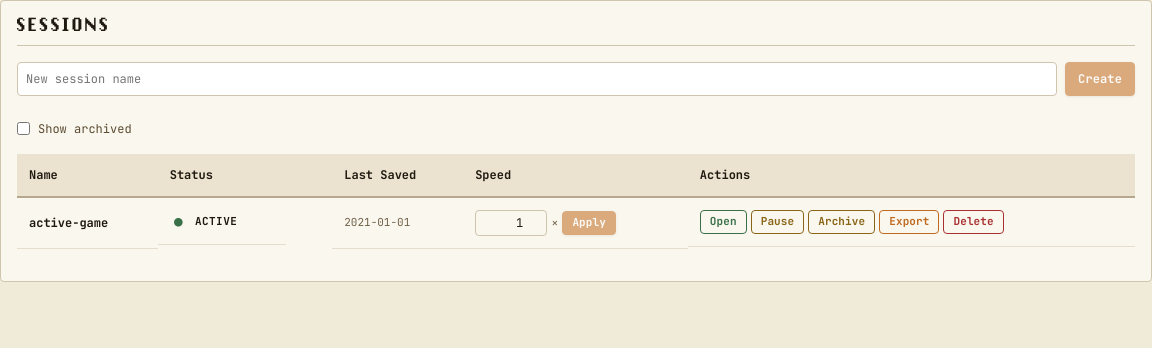
Test: SessionsPanel › hides archived sessions by default and reveals them when show archived is checked
Expected: the text "active-game" is shown, [17,196,158,248]
Expected: the text "archived-game" is not shown
Click the checkbox labelled "Show archived": (24,128) [17,122,30,135]
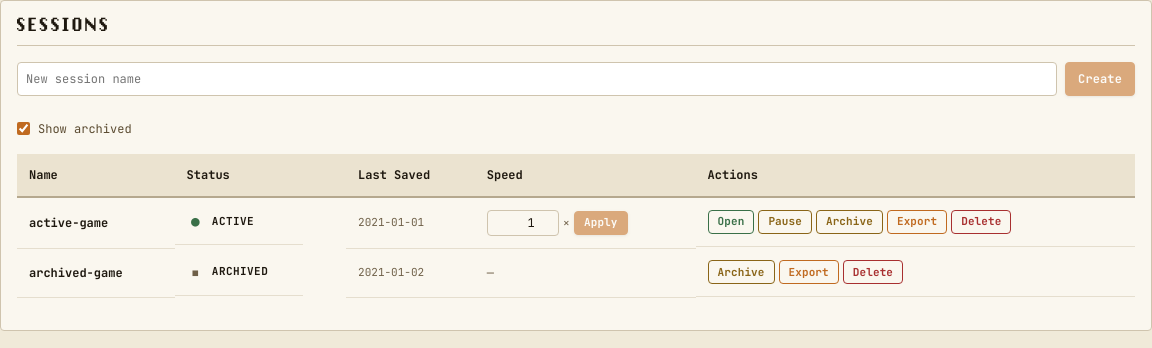
Now the text "archived-game" is shown, box [17,248,175,297]
